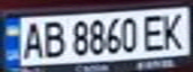0: (118, 14, 142, 54)
6: (103, 16, 127, 55)
8: (66, 17, 90, 56), (87, 16, 106, 56)
A: (18, 19, 48, 61)
B: (39, 18, 69, 60)
E: (139, 11, 169, 52)
K: (157, 9, 190, 51)
